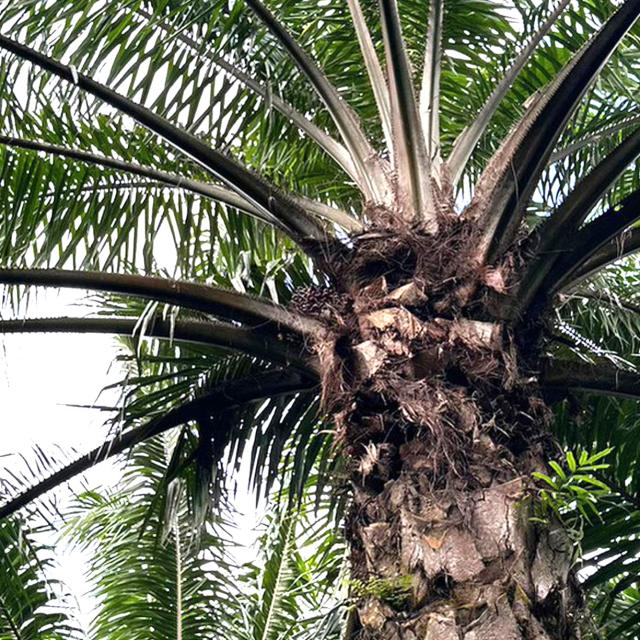ripe: (282, 276, 346, 330)
